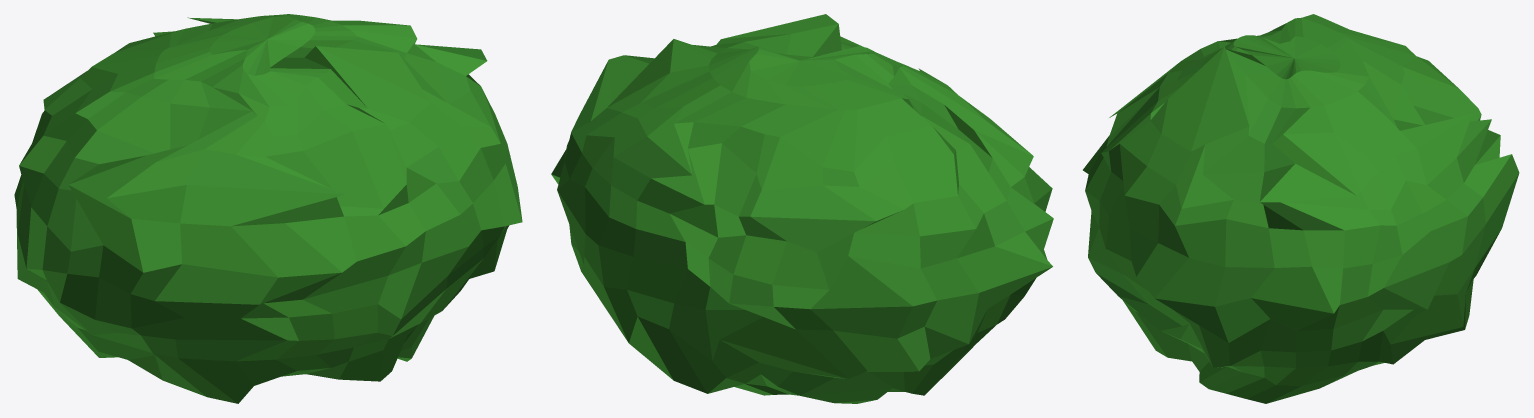
Rendered from Bush1(1).fbx.
3 views of the same model, side by side, from view 1: azimuth 30°, elevation 25°; view 2: azimuth 150°, elevation 25°; view 3: azimuth 270°, elevation 25° (orthographic). The views are drawn at different scales.
Visible parts, largest first — view 1: Sphere; view 2: Sphere; view 3: Sphere.
Boxes of the visible parts, <box> form: Sphere: <box>14,14,522,403</box>; Sphere: <box>551,14,1053,403</box>; Sphere: <box>1083,14,1519,403</box>.
Size of the model in its own units: 219 by 142 by 183.
